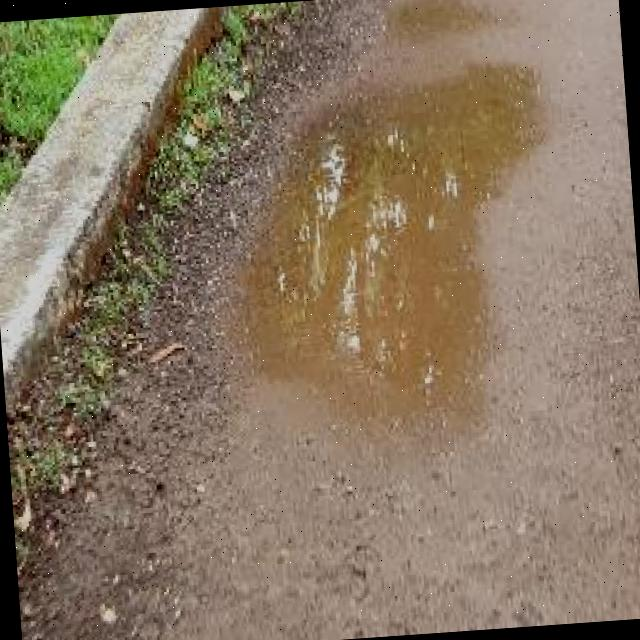stagnation: (219, 31, 560, 454)
